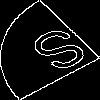S: (25, 25, 100, 82)
